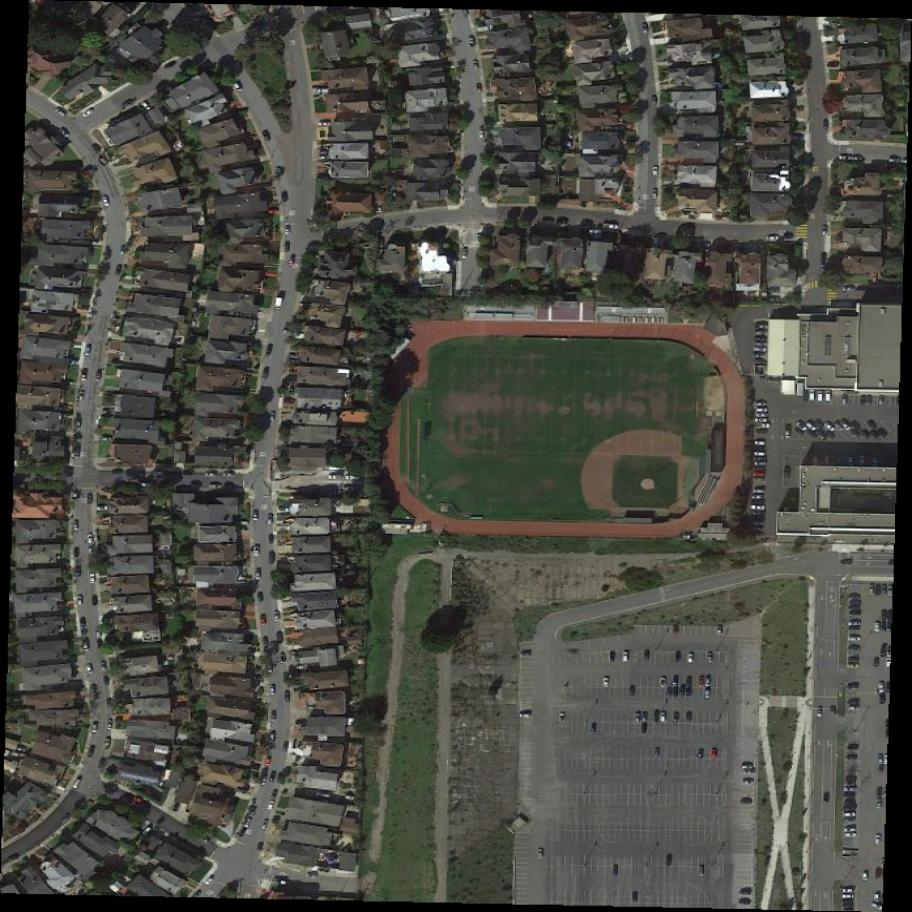large-vehicle: (276, 297, 282, 311)
small-vehicle: (794, 419, 809, 433), (831, 419, 845, 433), (805, 419, 818, 432), (823, 421, 836, 434), (57, 127, 70, 139), (875, 426, 888, 438), (72, 777, 83, 791), (815, 429, 827, 441), (839, 420, 852, 431), (232, 81, 243, 93), (84, 108, 95, 119), (866, 418, 877, 429), (142, 825, 153, 836), (259, 773, 269, 785), (849, 430, 861, 440), (602, 224, 621, 230), (269, 683, 277, 697), (262, 130, 272, 141), (277, 631, 285, 644), (281, 191, 289, 204), (860, 429, 870, 439), (784, 466, 793, 477), (261, 820, 270, 831), (794, 426, 805, 435), (753, 346, 767, 353), (518, 711, 532, 718), (751, 360, 767, 366), (751, 505, 767, 511), (268, 533, 276, 545), (77, 389, 85, 401), (133, 795, 145, 803), (875, 622, 883, 634), (687, 652, 694, 665), (869, 429, 879, 438), (816, 391, 824, 402), (91, 723, 99, 734), (90, 686, 98, 697), (86, 665, 94, 676), (262, 368, 270, 379), (754, 341, 768, 347), (267, 799, 274, 811), (318, 120, 330, 127), (866, 394, 873, 406), (738, 899, 752, 905), (205, 877, 214, 886), (55, 108, 64, 117), (537, 848, 545, 858), (711, 749, 719, 759), (698, 677, 706, 687), (839, 559, 852, 565), (823, 119, 830, 130), (81, 370, 88, 381), (469, 37, 476, 48), (82, 638, 89, 649), (878, 682, 885, 693), (755, 423, 770, 428), (285, 691, 291, 703), (95, 506, 107, 512), (209, 483, 221, 489), (848, 657, 860, 663), (878, 695, 886, 704), (707, 651, 713, 663), (863, 870, 869, 882), (269, 710, 276, 720), (253, 511, 260, 521), (478, 131, 485, 141), (472, 61, 479, 71), (841, 395, 848, 405), (675, 652, 682, 662), (847, 663, 861, 668), (878, 755, 885, 765), (875, 835, 882, 845), (519, 652, 530, 658), (280, 652, 286, 663), (274, 610, 280, 621), (809, 390, 815, 401), (826, 391, 832, 402), (255, 568, 261, 579), (653, 166, 659, 177), (88, 493, 94, 504), (643, 651, 649, 662), (76, 566, 82, 577), (636, 712, 642, 723), (845, 755, 856, 761), (877, 797, 883, 808), (754, 452, 767, 457), (754, 353, 767, 358), (755, 336, 768, 341), (315, 89, 328, 94), (852, 156, 865, 161), (767, 236, 780, 241), (205, 473, 218, 478), (847, 645, 860, 650), (602, 677, 609, 686), (717, 626, 724, 635), (270, 772, 276, 782), (265, 756, 270, 768), (95, 371, 101, 381), (102, 196, 108, 206), (269, 552, 274, 564), (839, 155, 851, 160), (589, 228, 601, 233), (80, 618, 86, 628), (257, 592, 263, 602), (223, 473, 235, 478), (266, 346, 272, 356), (642, 724, 648, 734), (849, 610, 861, 615), (844, 800, 856, 805), (741, 799, 753, 804), (742, 780, 754, 785), (630, 688, 636, 698), (754, 419, 768, 423), (755, 408, 769, 412), (743, 770, 757, 774), (611, 867, 618, 875), (843, 833, 857, 837), (755, 402, 766, 407), (623, 650, 628, 661), (269, 731, 274, 742), (331, 475, 342, 480), (817, 707, 822, 718), (848, 685, 859, 690), (643, 712, 648, 723), (706, 676, 711, 687), (739, 890, 750, 895), (845, 779, 856, 784), (673, 626, 679, 635), (284, 243, 290, 252), (679, 686, 685, 695), (698, 749, 704, 758), (755, 330, 768, 334), (753, 473, 766, 477), (844, 788, 857, 792), (844, 806, 857, 810), (844, 812, 857, 816), (845, 850, 858, 854), (559, 713, 564, 723), (476, 83, 481, 93), (88, 533, 93, 543), (105, 738, 110, 748), (655, 711, 660, 721), (668, 688, 673, 698), (848, 700, 858, 705), (686, 712, 691, 722), (660, 677, 665, 687), (706, 688, 711, 698), (847, 706, 857, 711), (755, 429, 767, 433), (843, 288, 855, 292), (849, 622, 861, 626), (742, 764, 754, 768), (632, 893, 638, 901), (861, 396, 866, 405), (878, 397, 883, 406), (822, 225, 827, 234), (652, 190, 657, 199), (77, 596, 82, 605), (107, 720, 112, 729), (101, 661, 106, 670), (655, 747, 660, 756), (661, 712, 666, 721), (699, 867, 704, 876), (823, 793, 828, 802), (755, 461, 766, 465), (757, 414, 768, 418), (757, 325, 768, 329), (753, 478, 764, 482), (753, 496, 764, 500), (887, 158, 898, 162), (849, 637, 860, 641), (845, 817, 856, 821), (844, 827, 855, 831), (841, 888, 852, 892), (785, 429, 789, 439), (611, 652, 615, 662), (592, 724, 597, 732), (269, 515, 273, 525), (285, 226, 290, 234), (255, 546, 259, 556), (73, 520, 78, 528), (874, 658, 879, 666), (673, 688, 678, 696), (848, 745, 858, 749), (687, 678, 692, 686), (686, 687, 691, 695), (666, 857, 670, 867), (753, 490, 766, 493), (754, 442, 766, 445), (261, 616, 265, 625), (91, 573, 95, 582), (674, 713, 678, 722), (841, 895, 853, 898), (673, 677, 678, 684), (86, 347, 90, 355), (875, 892, 879, 900), (463, 249, 466, 258)
